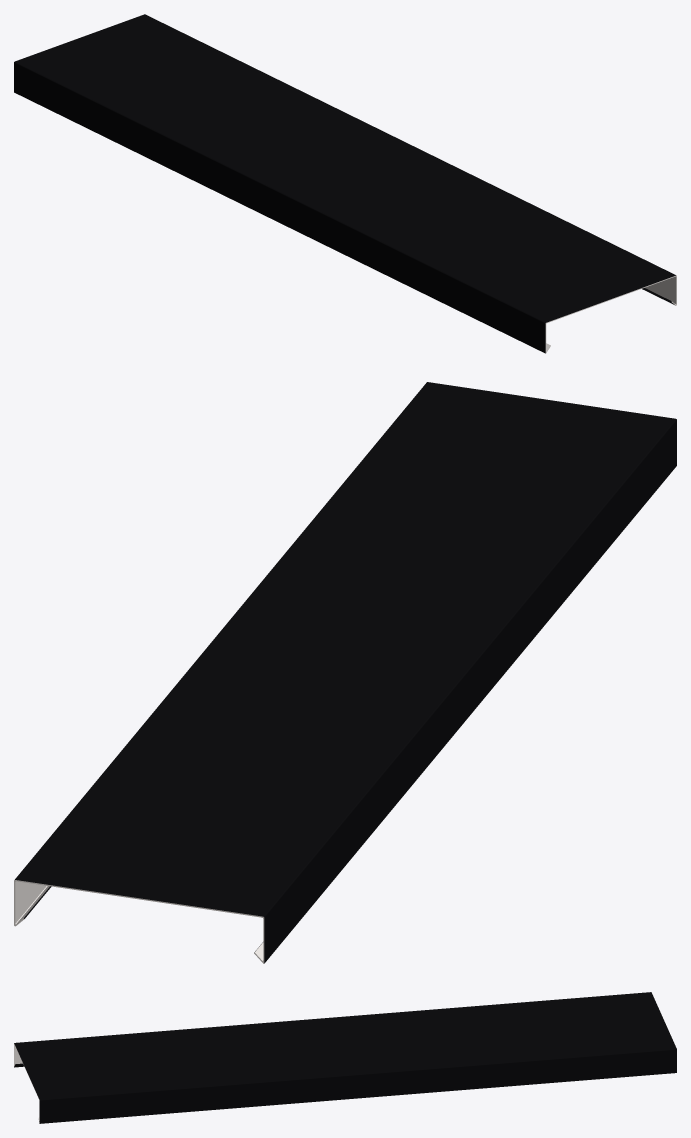
The model's file is couvertine-a-coller-test21112.gltf.
The picture shows the model from 3 angles, top to bottom: view 1: azimuth 30°, elevation 25°; view 2: azimuth 150°, elevation 25°; view 3: azimuth 270°, elevation 25°; orthographic projection. The views are drawn at different scales.
Visible parts, largest first — view 1: couvertine à coller; view 2: couvertine à coller; view 3: couvertine à coller.
Part boxes in pixels (x1=…): couvertine à coller: x1=14, y1=14, x2=676, y2=353; couvertine à coller: x1=14, y1=382, x2=676, y2=963; couvertine à coller: x1=14, y1=992, x2=676, y2=1123.
Size of the model in its own units: 0.3712 by 0.0393 by 0.9616.
3 materials, 1 textured.
